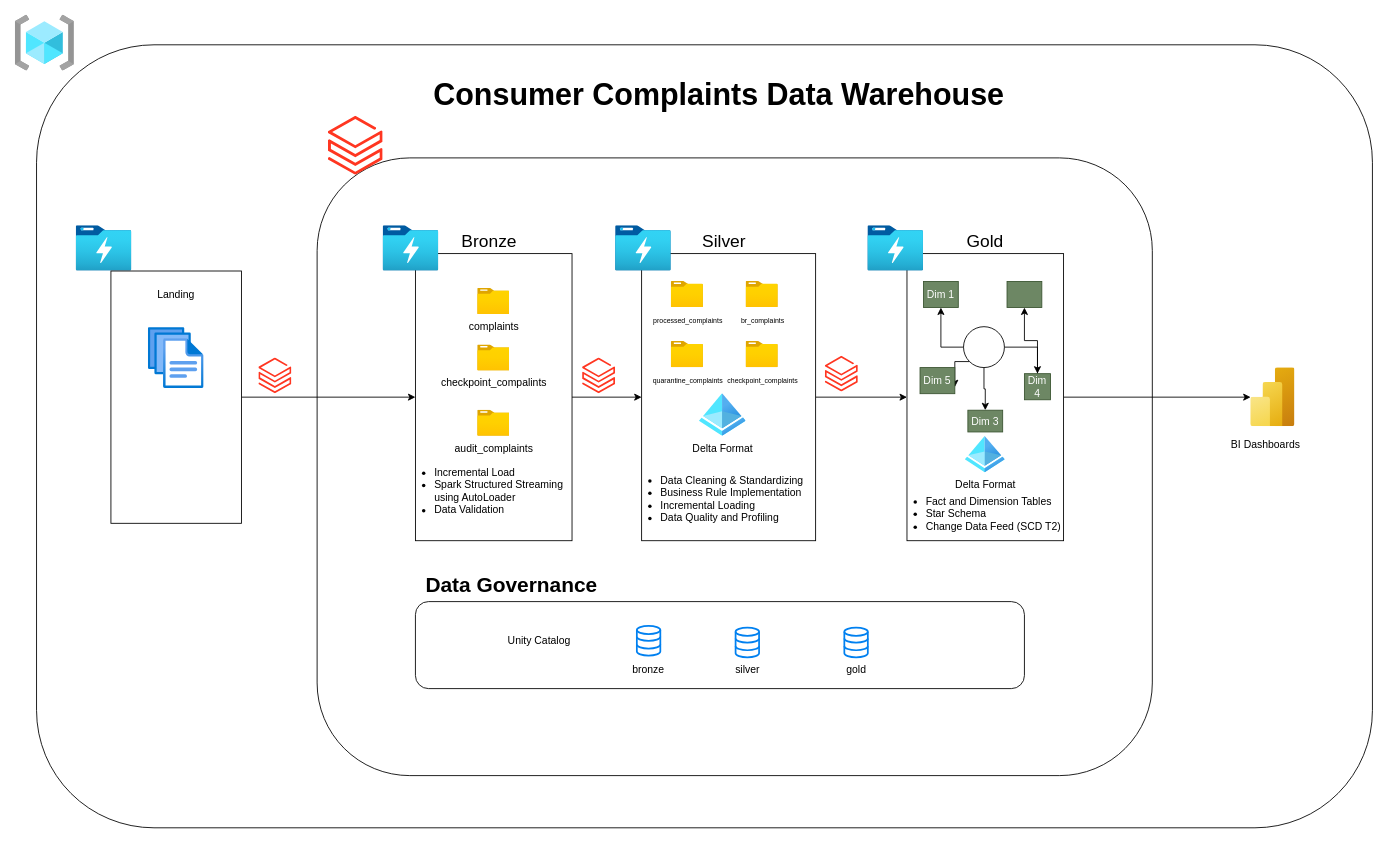
Some shapes in this 1388 by 843 pixel diagram are drawn without their labels. Here are the shapes that lost their labels. From the top down, the centre of each, then its label:
the point at 1024,294: Dim 2
the point at 176,357: daily loading csv files
the point at 983,347: Fact
